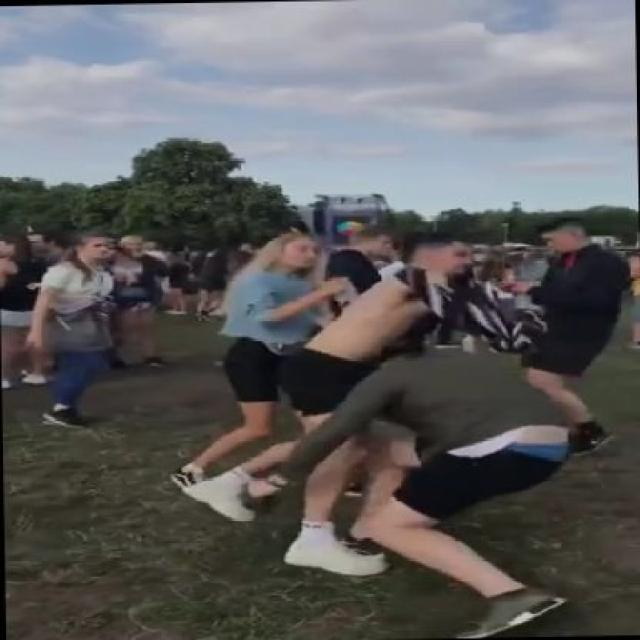fight: (181, 234, 617, 640)
non-fight: (172, 233, 348, 501), (512, 214, 634, 458), (20, 223, 121, 430)
